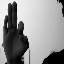f: (1, 1, 30, 59)
